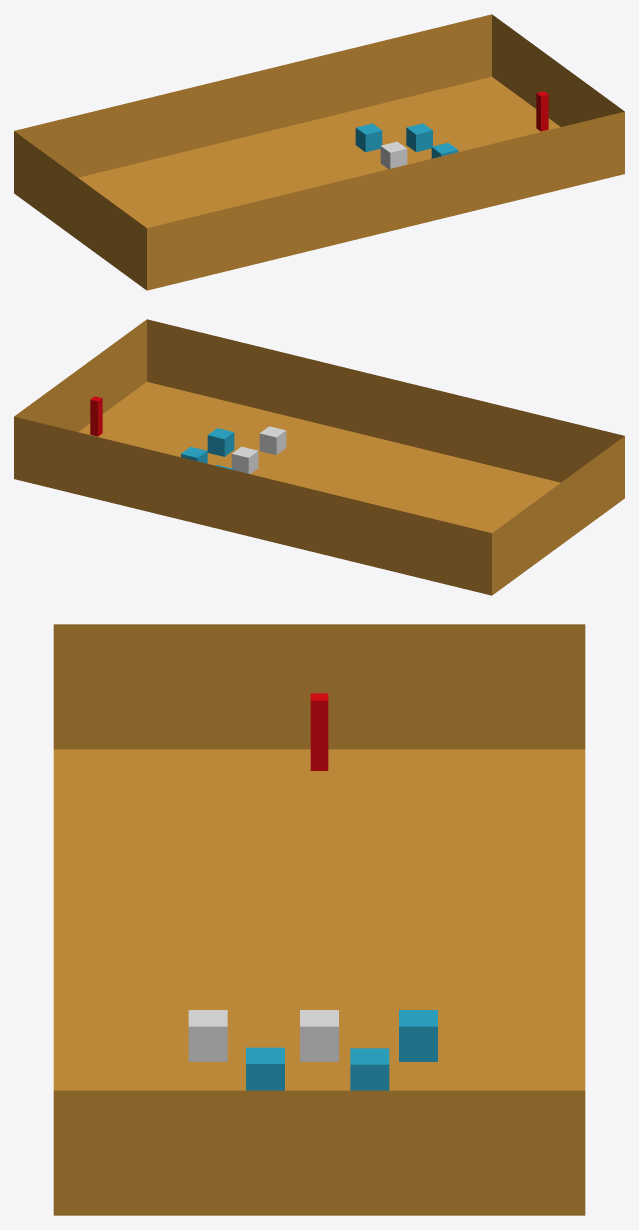
Rendered from map1.fbx.
3 renders of one model, top to bottom at view 1: azimuth 30°, elevation 25°; view 2: azimuth 150°, elevation 25°; view 3: azimuth 270°, elevation 25°, orthographic. The views are drawn at different scales.
Visible parts, largest first — view 1: Cube, Cube.001, Cube.004, Cube.002, Cube.006; view 2: Cube, Cube.005, Cube.003, Cube.002, Cube.006; view 3: Cube, Cube.003, Cube.001, Cube.002, Cube.004, Cube.005, Cube.007.
Part boxes in pixels (x1,y1,x2,y2): Cube: (14, 14, 624, 290); Cube.001: (355, 123, 382, 152); Cube.004: (406, 123, 432, 152); Cube.002: (380, 141, 407, 169); Cube.006: (536, 91, 548, 131); Cube: (14, 319, 624, 595); Cube.005: (207, 428, 234, 456); Cube.003: (259, 426, 286, 454); Cube.002: (231, 446, 258, 474); Cube.006: (90, 396, 102, 436); Cube: (53, 624, 585, 1215); Cube.003: (188, 1010, 227, 1061); Cube.001: (399, 1010, 437, 1061); Cube.002: (300, 1010, 338, 1061); Cube.004: (350, 1048, 389, 1090); Cube.005: (246, 1047, 284, 1090); Cube.007: (310, 693, 328, 770).
Bounding box in the file's own units: 2273 × 284 × 1095.
